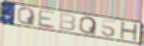5: (101, 18, 117, 37)
B: (58, 12, 77, 32)
E: (37, 9, 57, 30)
H: (120, 21, 139, 42)
Q: (17, 7, 37, 27), (78, 16, 98, 35)
